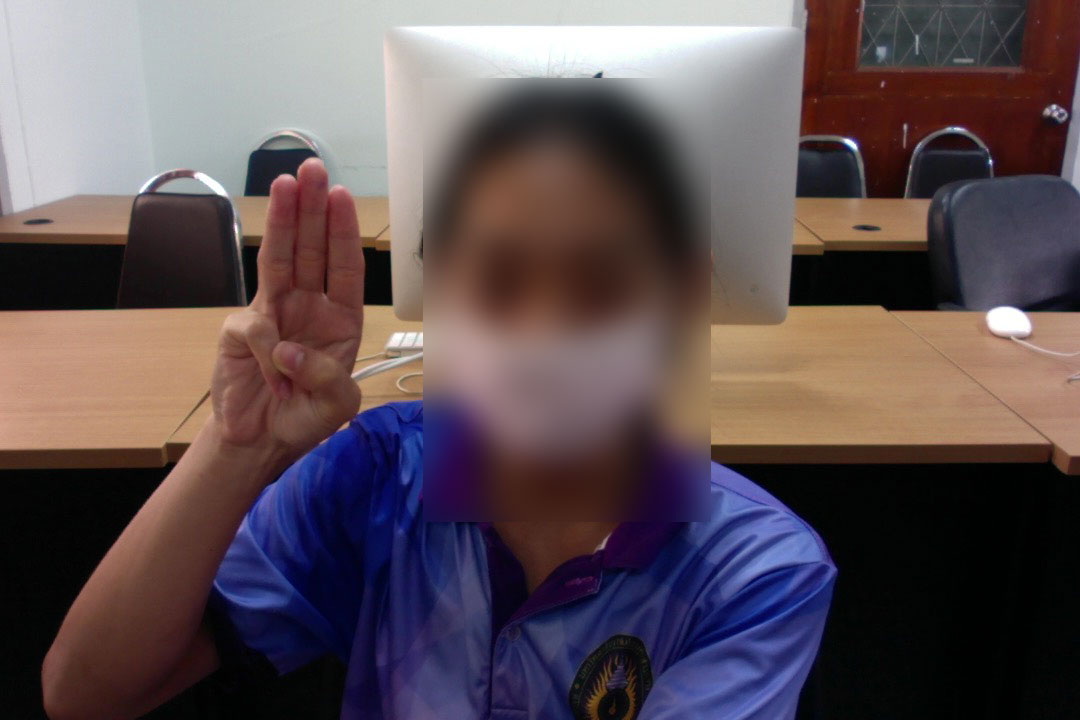wor: (192, 154, 382, 458)
